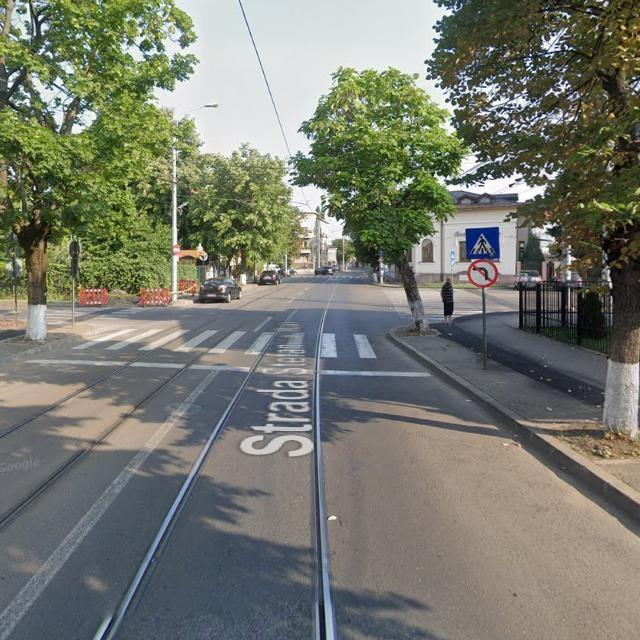info_crosswalk: (464, 227, 502, 260)
